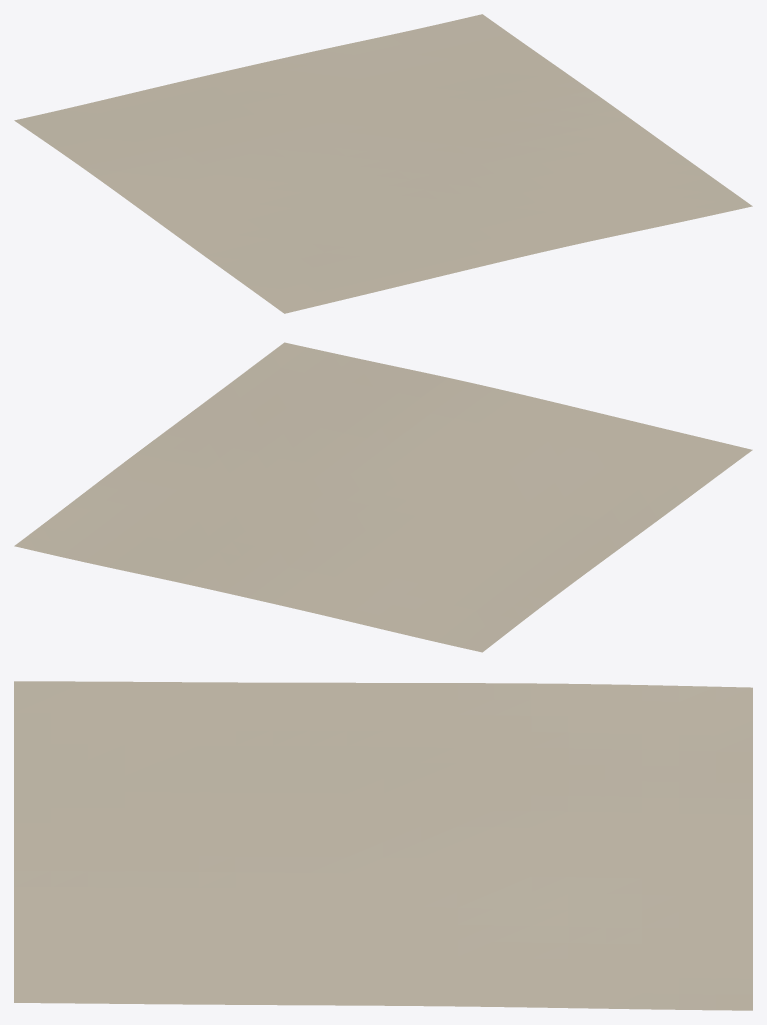
The model's file is bolak_-18_-3.glb.
3 views of the same model, one above another, from view 1: azimuth 30°, elevation 25°; view 2: azimuth 150°, elevation 25°; view 3: azimuth 270°, elevation 25° (orthographic). The views are drawn at different scales.
Visible parts, largest first — view 1: Yer_Tuproq-col; view 2: Yer_Tuproq-col; view 3: Yer_Tuproq-col.
Boxes of the visible parts, box(x1,y1,x2,y2) form: Yer_Tuproq-col: box(14, 14, 752, 313); Yer_Tuproq-col: box(14, 342, 752, 652); Yer_Tuproq-col: box(14, 681, 752, 1010).
Bounding box in the file's own units: 400 × 10.23 × 400.
